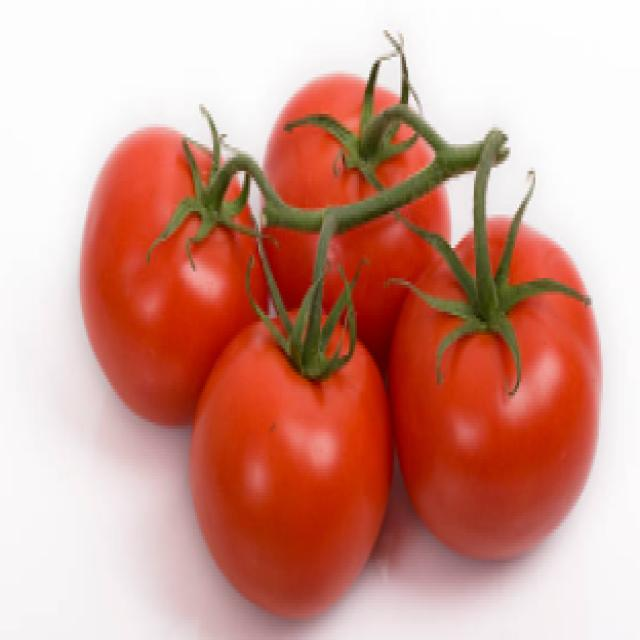Tomato: (392, 195, 604, 562), (174, 285, 396, 614), (95, 108, 287, 412), (258, 55, 446, 339)
